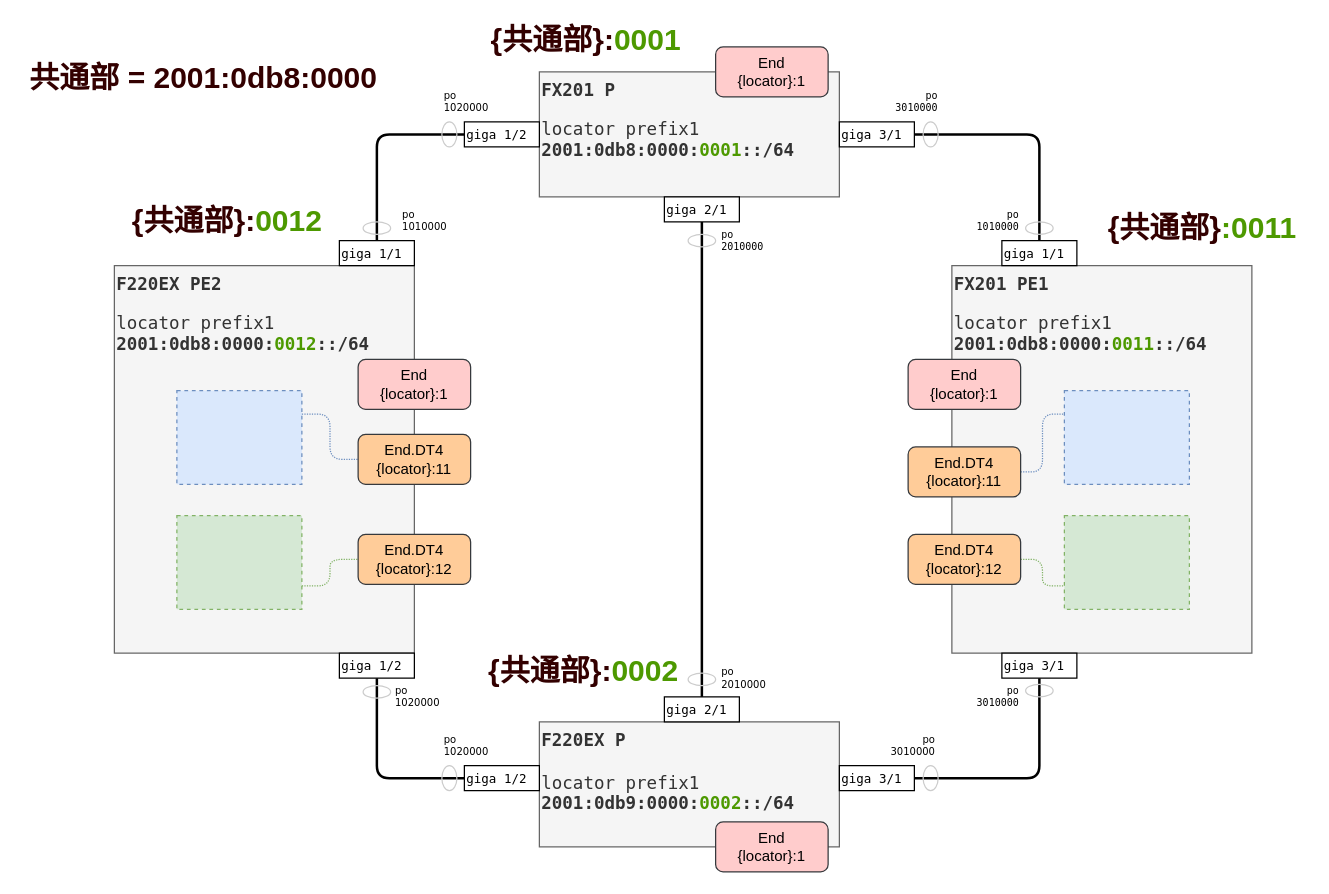
Some shapes in this 1329 by 894 pixel diagram are drawn without their labels. Here are the shapes that lost their labels. From the top down, the centre of each, then its label:
At point (239, 436): "vrf 1 220.0.1.1/24 220:1::1/32".
At point (1126, 436): "vrf 1 201.0.1.1/24 201:1::1/32".
At point (239, 561): "vrf 2 220.0.2.1/24 220:2::1/32".
At point (1126, 561): "vrf 2 201.0.2.1/24 201:2::1/32".
